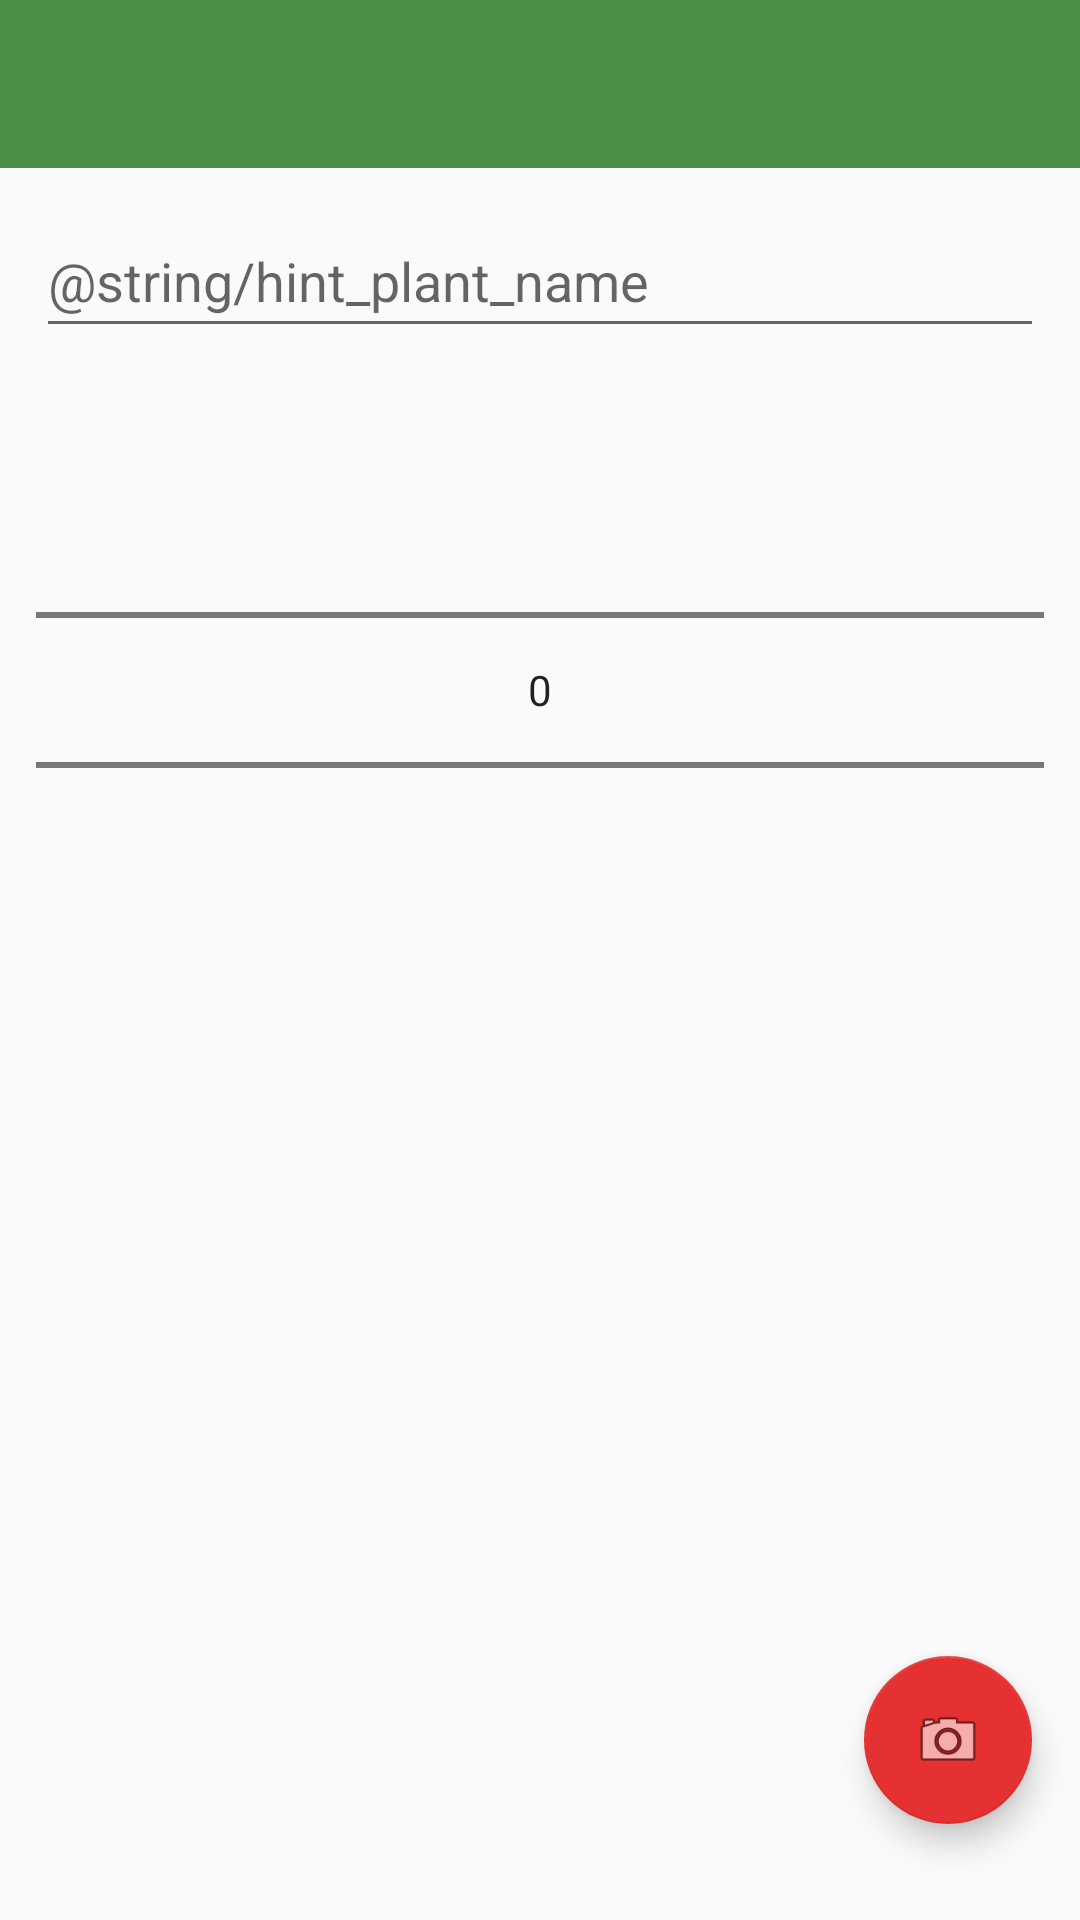

Point at icon controls on the screen. Image size 1080 x 1920, points as point (x, y).
camera: point (948, 1740)
